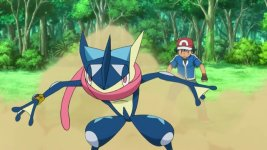greninja: (11, 27, 221, 150)
